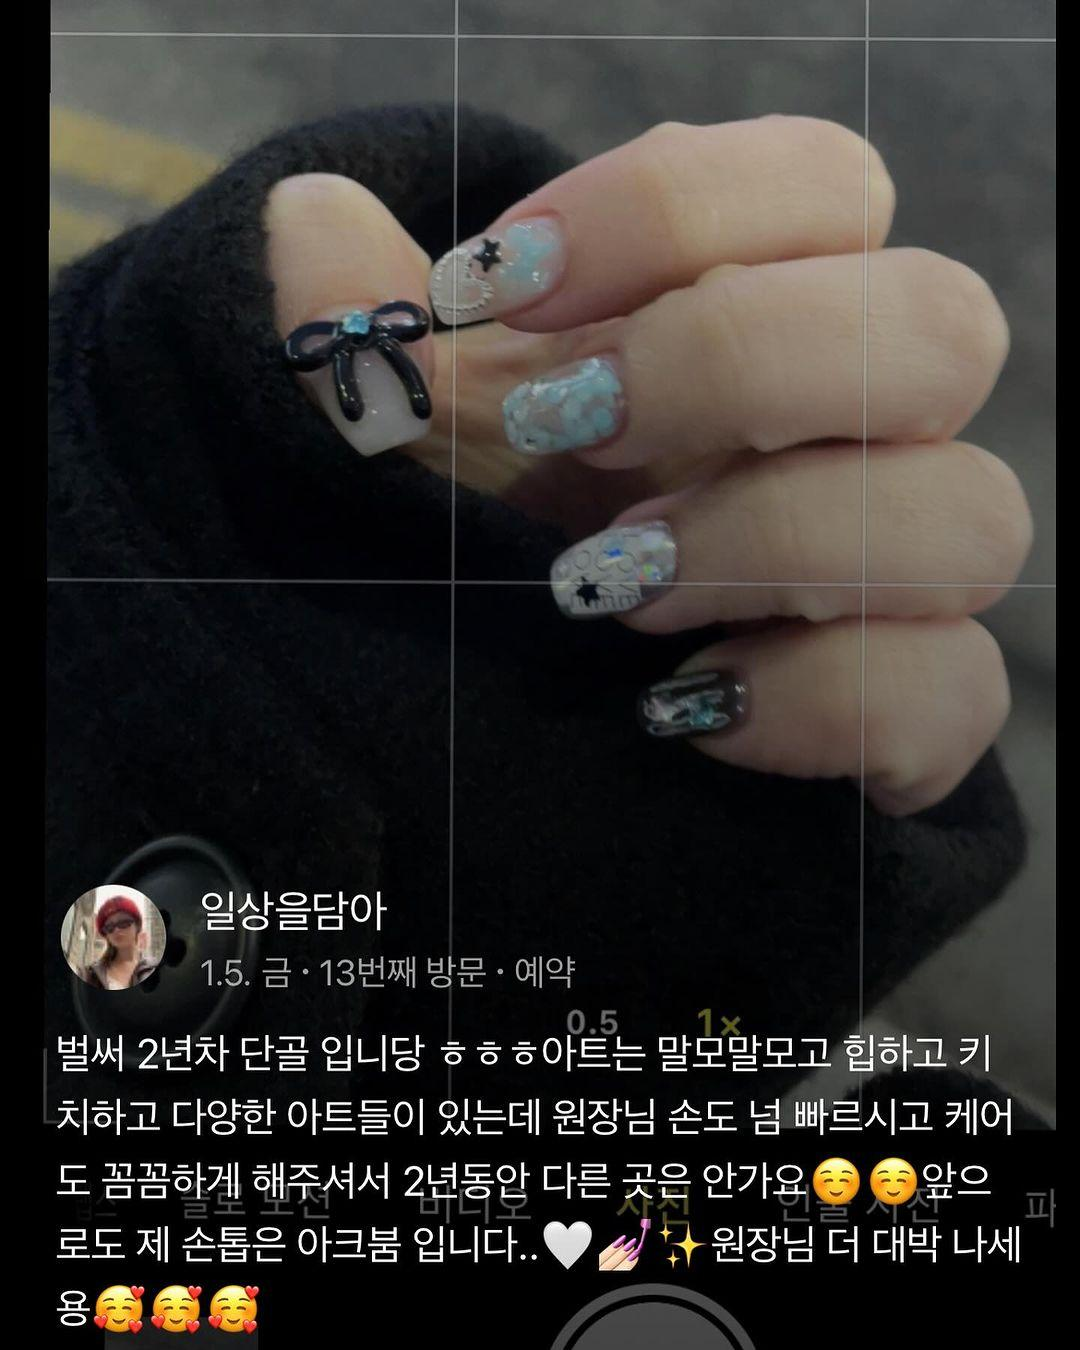nail: (426, 209, 568, 330), (547, 517, 678, 619), (500, 353, 628, 457), (636, 667, 747, 738)
